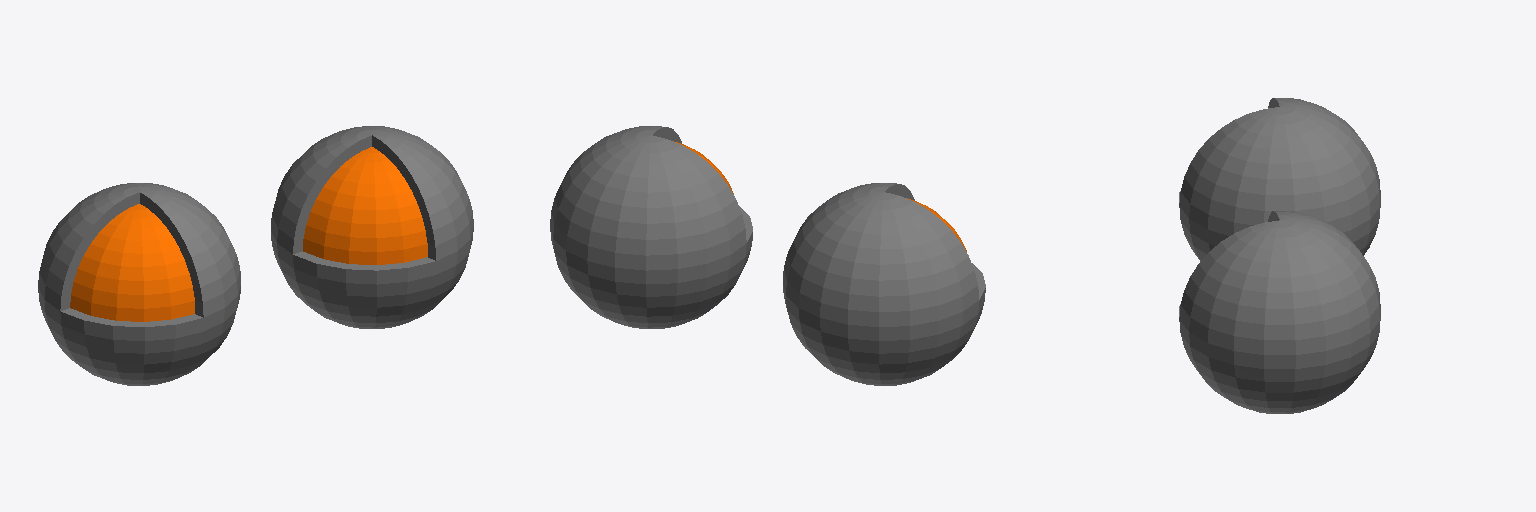
3 renders of one model, left to right at view 1: azimuth 30°, elevation 25°; view 2: azimuth 150°, elevation 25°; view 3: azimuth 270°, elevation 25°, orthographic.
Parts seen in each view (by area): view 1: pasted__polySurface1 pasted__pSphere1 group, pSphere1 polySurface1, polySurface2 pSphere1, pasted__pSphere1 group pasted__polySurface2; view 2: pasted__polySurface1 pasted__pSphere1 group, pSphere1 polySurface1; view 3: pSphere1 polySurface1, pasted__polySurface1 pasted__pSphere1 group.
Boxes of the visible parts, x1=… form: pasted__polySurface1 pasted__pSphere1 group: x1=38, y1=183, x2=240, y2=385; pSphere1 polySurface1: x1=271, y1=126, x2=473, y2=328; polySurface2 pSphere1: x1=303, y1=147, x2=427, y2=264; pasted__pSphere1 group pasted__polySurface2: x1=70, y1=204, x2=194, y2=321; pasted__polySurface1 pasted__pSphere1 group: x1=783, y1=183, x2=985, y2=385; pSphere1 polySurface1: x1=550, y1=126, x2=752, y2=328; pSphere1 polySurface1: x1=1179, y1=211, x2=1380, y2=413; pasted__polySurface1 pasted__pSphere1 group: x1=1179, y1=98, x2=1380, y2=261.
Bounding box in the file's own units: 3.65 × 1.58 × 1.57.
2 materials, 2 textured.